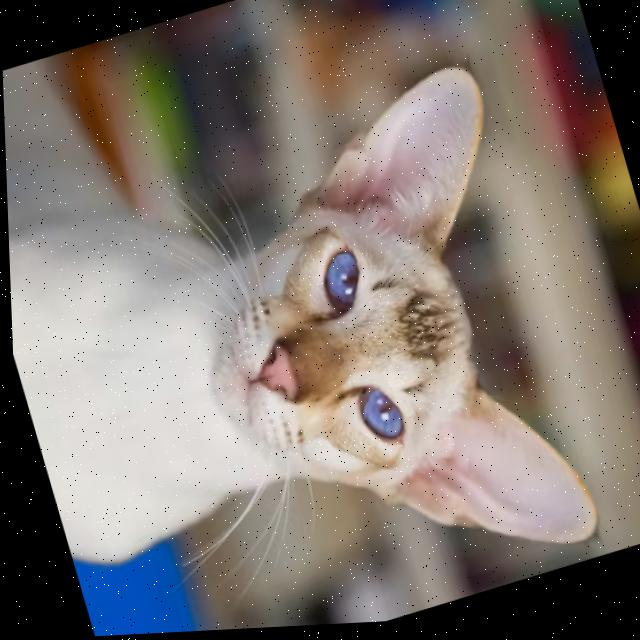Oriental: (0, 0, 613, 640)
